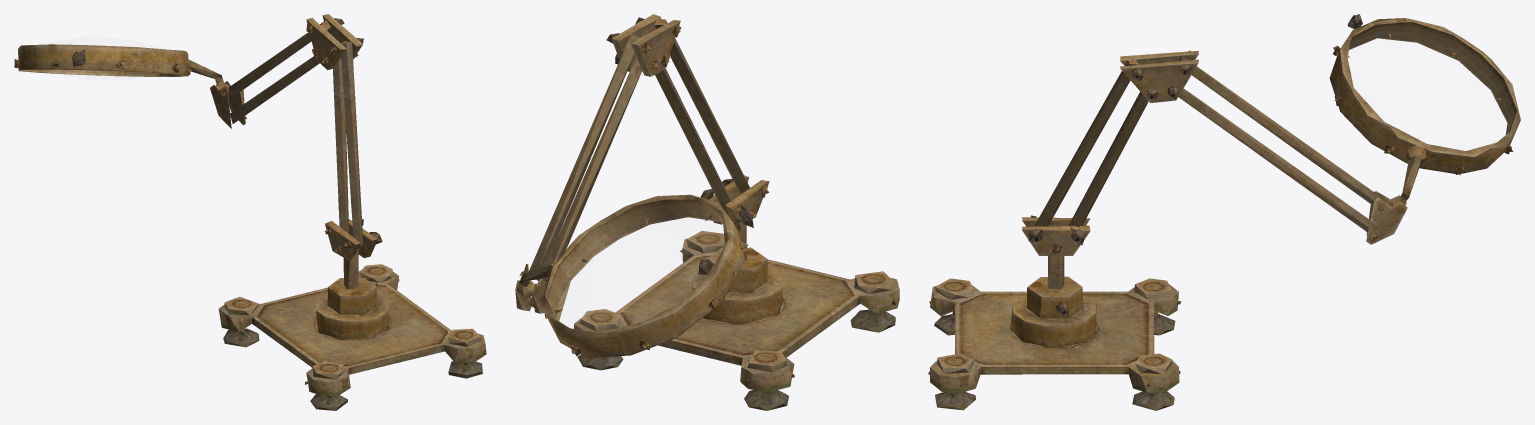
File: magnifier-stand.lod1.glb
3 views of the same model, side by side, from view 1: azimuth 30°, elevation 25°; view 2: azimuth 150°, elevation 25°; view 3: azimuth 270°, elevation 25° (orthographic). The views are drawn at different scales.
Parts seen in each view (by area): view 1: magnifier-stand; view 2: magnifier-stand; view 3: magnifier-stand.
Boxes of the visible parts, <box> form: magnifier-stand: <box>14,14,486,410</box>; magnifier-stand: <box>515,14,899,410</box>; magnifier-stand: <box>928,14,1520,410</box>.
Bounding box in the file's own units: 0.406 × 0.4461 × 0.7384.
2 materials, 1 textured.
